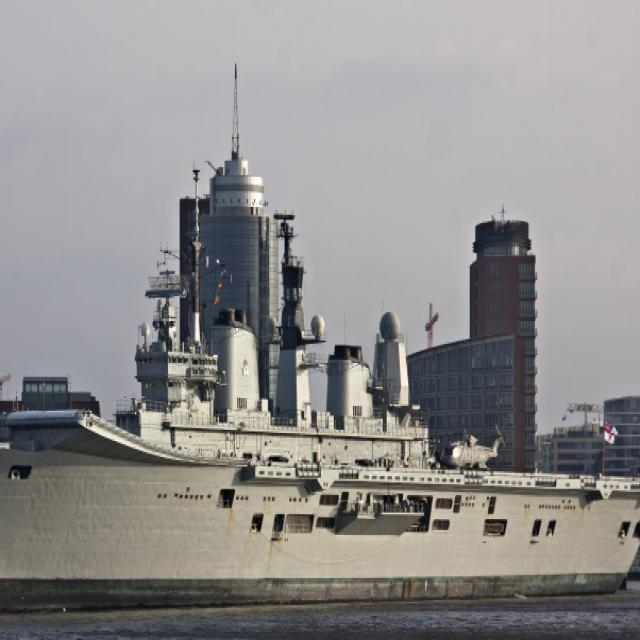Portanaves: (1, 222, 640, 625)
